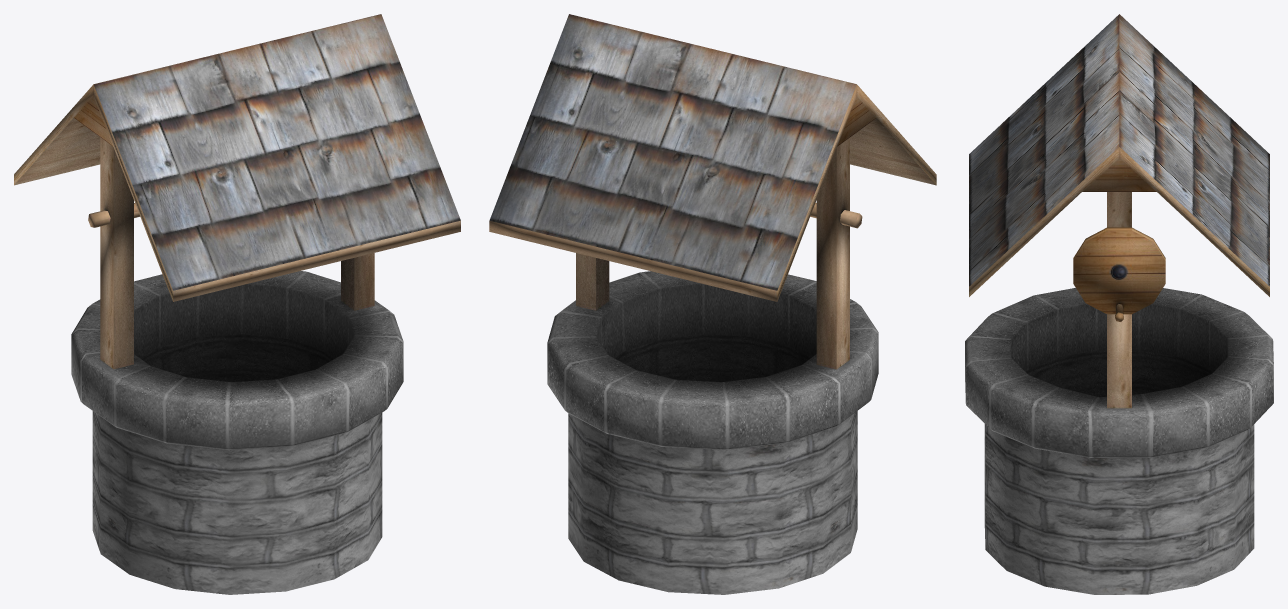
Rendered from well.coveredopen.obj.
3 views of the same model, side by side, from view 1: azimuth 30°, elevation 25°; view 2: azimuth 150°, elevation 25°; view 3: azimuth 270°, elevation 25° (orthographic). The views are drawn at different scales.
Parts seen in each view (by area): view 1: well.covered; view 2: well.covered; view 3: well.covered.
Boxes of the visible parts, left/top/right/bottom form: well.covered: left=14, top=14, right=460, bottom=594; well.covered: left=489, top=14, right=936, bottom=594; well.covered: left=965, top=14, right=1273, bottom=594.
Bounding box in the file's own units: 2.14 × 3.22 × 1.97.
Materials: 1 (1 with a texture image).
